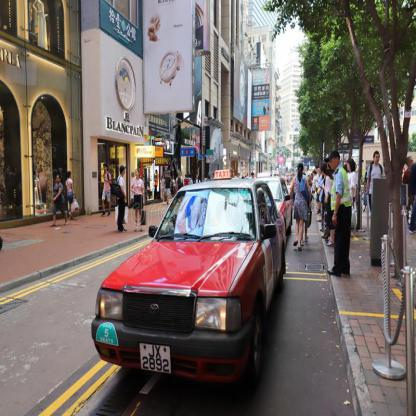taxi: (90, 163, 297, 405)
